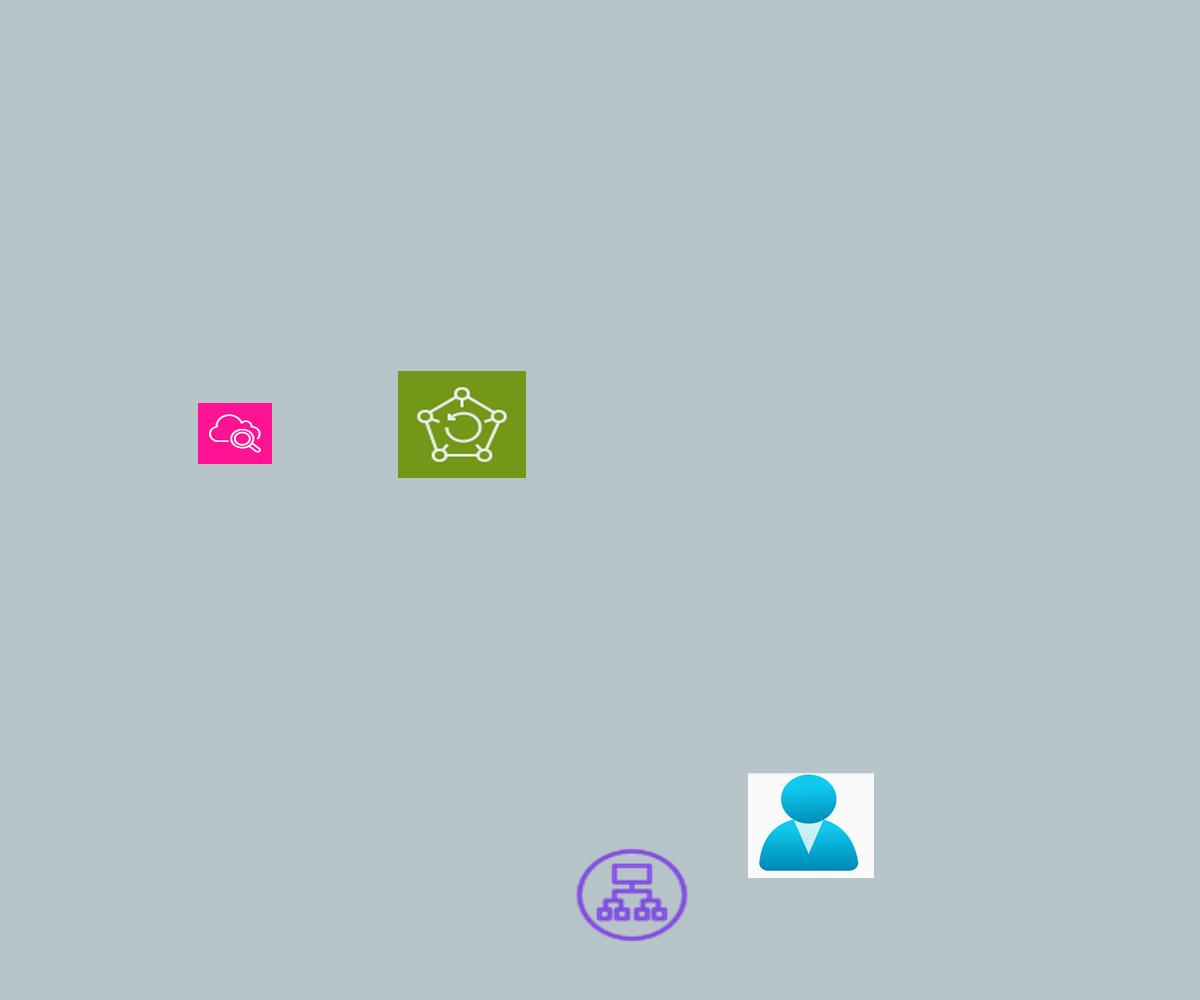AWS-Backup: (398, 371, 526, 478)
AWS-CloudWatch: (198, 403, 272, 464)
AWS-Res_Elastic-Load-Balancing_Application-Load-Balancer: (572, 845, 692, 945)
Azure_users: (748, 773, 874, 878)
